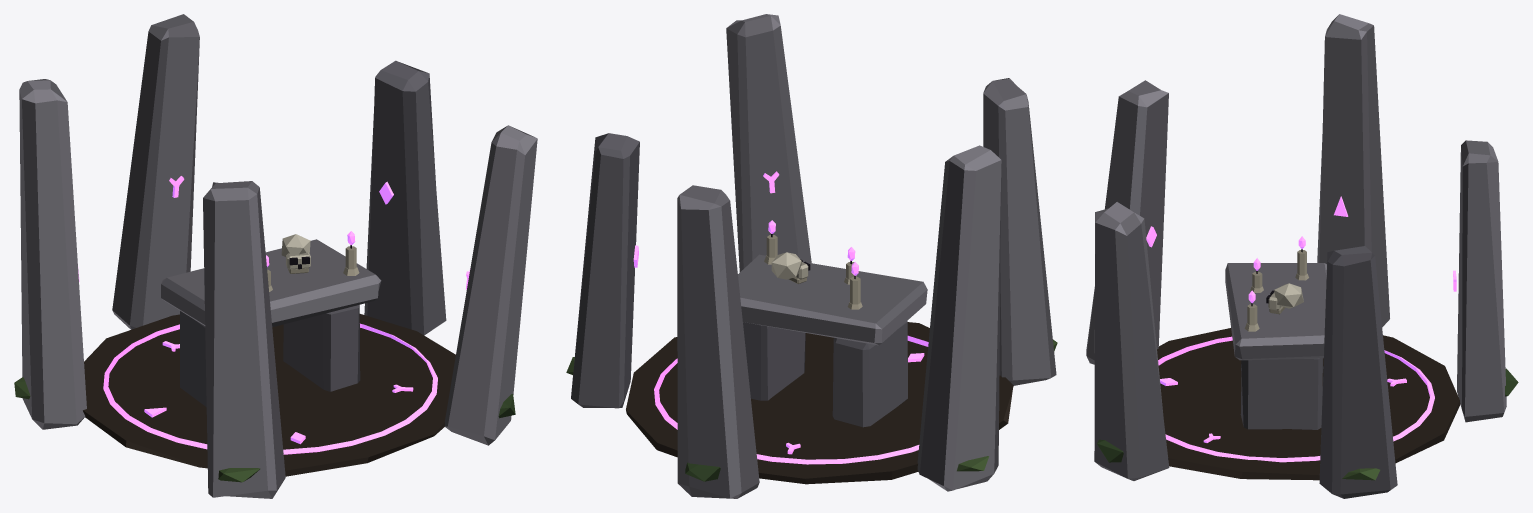
File: ritual_stones.glb
3 renders of one model, left to right at view 1: azimuth 30°, elevation 25°; view 2: azimuth 150°, elevation 25°; view 3: azimuth 270°, elevation 25°, orthographic. The views are drawn at different scales.
Parts seen in each view (by area): view 1: RitualStones; view 2: RitualStones; view 3: RitualStones.
Part boxes in pixels (x1=…): RitualStones: x1=14, y1=14, x2=537, y2=498; RitualStones: x1=566, y1=14, x2=1057, y2=498; RitualStones: x1=1086, y1=14, x2=1518, y2=498.
Size of the model in its own units: 1.78 by 1.37 by 1.73.
